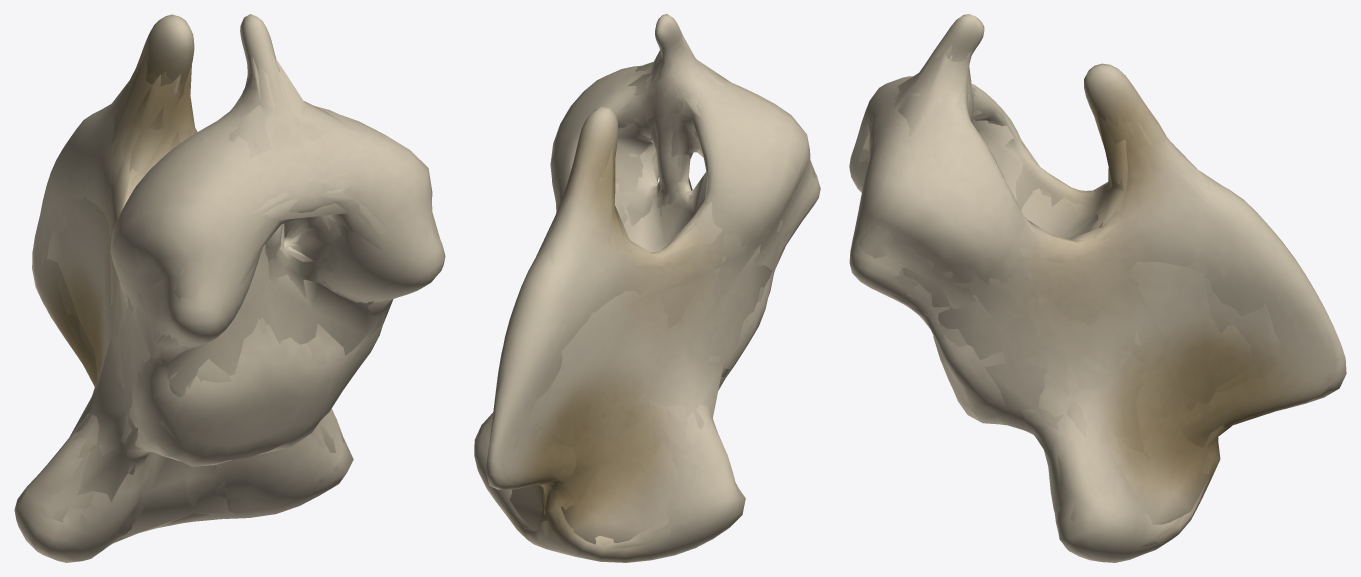
File: vertebra cervicalis 2 axis.fbx
3 views of the same model, side by side, from view 1: azimuth 30°, elevation 25°; view 2: azimuth 150°, elevation 25°; view 3: azimuth 270°, elevation 25° (orthographic). The views are drawn at different scales.
Parts seen in each view (by area): view 1: vertebra cervicalis 2 axis high, vertebra cervicalis 2 axis low, vertebra cervicalis 2 axis; view 2: vertebra cervicalis 2 axis high, vertebra cervicalis 2 axis low, vertebra cervicalis 2 axis; view 3: vertebra cervicalis 2 axis high, vertebra cervicalis 2 axis low, vertebra cervicalis 2 axis.
Part boxes in pixels (x1,y1,x2,y2): vertebra cervicalis 2 axis high: [14, 14, 445, 562]; vertebra cervicalis 2 axis low: [47, 56, 433, 539]; vertebra cervicalis 2 axis: [37, 53, 439, 547]; vertebra cervicalis 2 axis high: [474, 14, 820, 562]; vertebra cervicalis 2 axis low: [509, 35, 795, 544]; vertebra cervicalis 2 axis: [489, 36, 815, 548]; vertebra cervicalis 2 axis high: [849, 14, 1346, 562]; vertebra cervicalis 2 axis low: [863, 49, 1261, 524]; vertebra cervicalis 2 axis: [854, 42, 1314, 547].
Bounding box in the file's own units: 6.13 × 10.72 × 9.42.
1 material, 1 textured.
